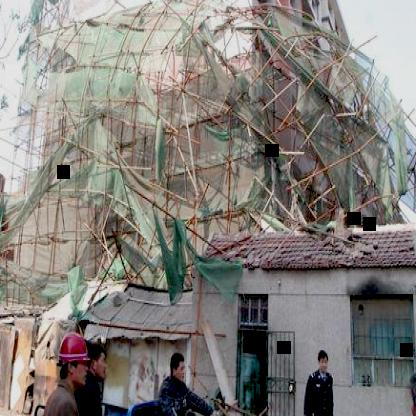head: (90, 339, 113, 383), (169, 350, 190, 386), (316, 346, 332, 376)
helmet: (58, 328, 92, 390)
